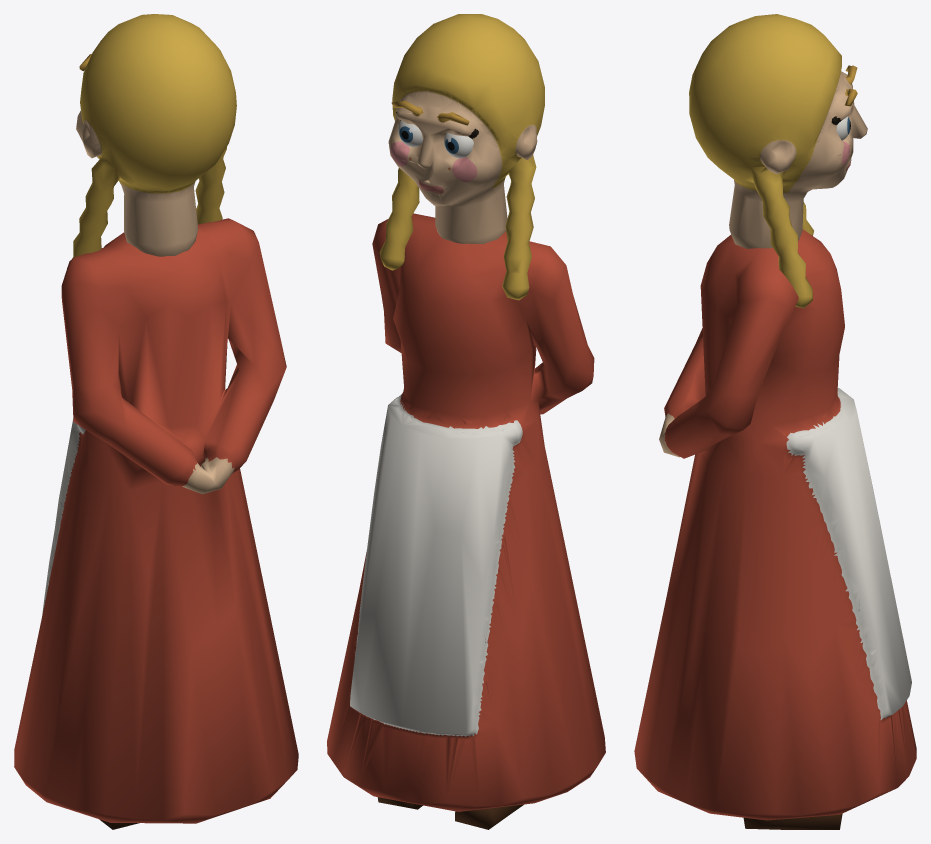
Rendered from sofie.glb.
3 renders of one model, left to right at view 1: azimuth 30°, elevation 25°; view 2: azimuth 150°, elevation 25°; view 3: azimuth 270°, elevation 25°, orthographic. The views are drawn at different scales.
Visible parts, largest first — view 1: body_lod0, head_lod0; view 2: body_lod0, head_lod0; view 3: body_lod0, head_lod0.
Boxes of the visible parts, x1,y1,x2,y2 form: body_lod0: (14, 218, 298, 829); head_lod0: (72, 14, 236, 258); body_lod0: (327, 213, 605, 829); head_lod0: (379, 14, 544, 300); body_lod0: (634, 229, 916, 829); head_lod0: (689, 14, 867, 308).
Size of what is drawn, in the model's own units: 0.475 by 1.46 by 0.4751.
